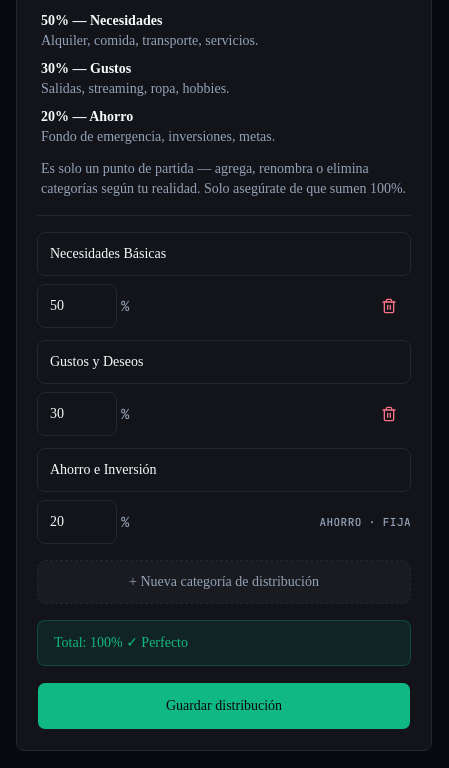
Test: OnboardingWizard — Step 3 category seeding (FR-023) › resuming at distribution still continues to categories in setup mode
(page scrolled)
Click the button "Guardar distribución": {"x": 224, "y": 706} [37,682,411,730]
(page scrolled)
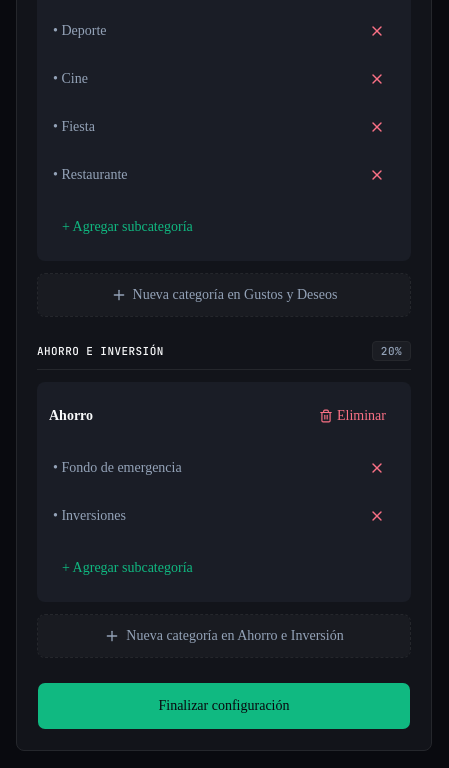
Now the button "Finalizar configuración" is enabled, box [37,682,411,730]
